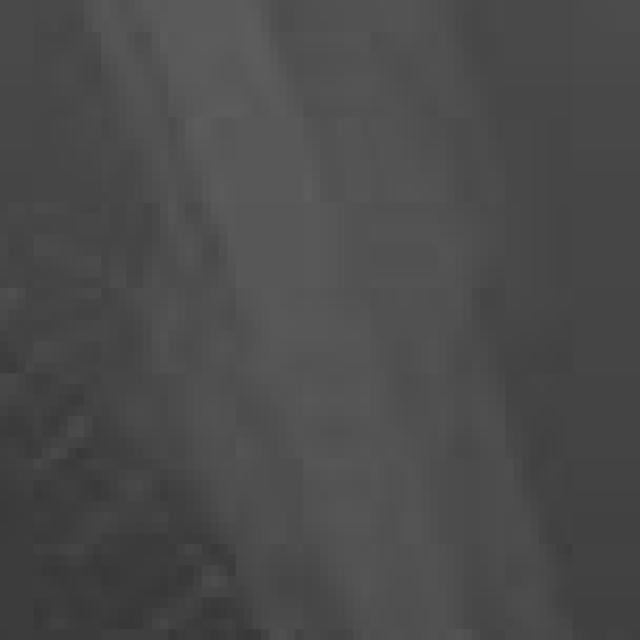fracture: (2, 7, 640, 640)
